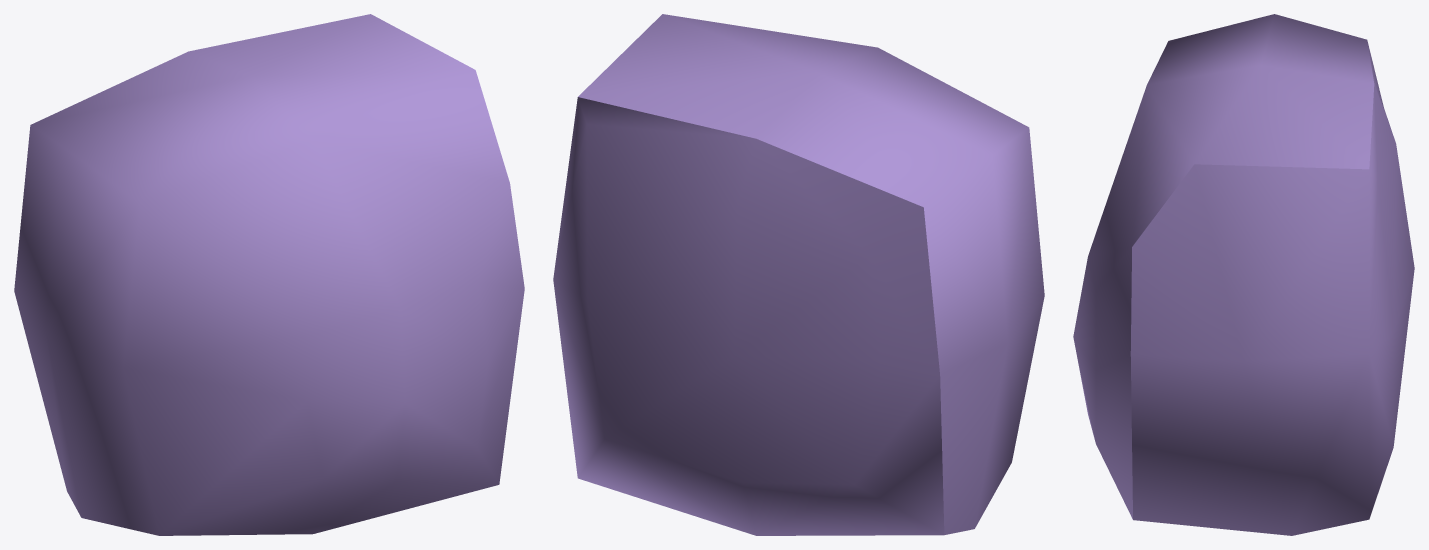
File: stone_a.fbx
3 views of the same model, side by side, from view 1: azimuth 30°, elevation 25°; view 2: azimuth 150°, elevation 25°; view 3: azimuth 270°, elevation 25° (orthographic). The views are drawn at different scales.
Parts seen in each view (by area): view 1: Cube.002; view 2: Cube.002; view 3: Cube.002.
Boxes of the visible parts, bbox=[...] form: Cube.002: bbox=[14, 14, 524, 535]; Cube.002: bbox=[553, 14, 1044, 535]; Cube.002: bbox=[1073, 14, 1414, 535].
Size of the model in its own units: 1.17 by 1.16 by 0.8911.
